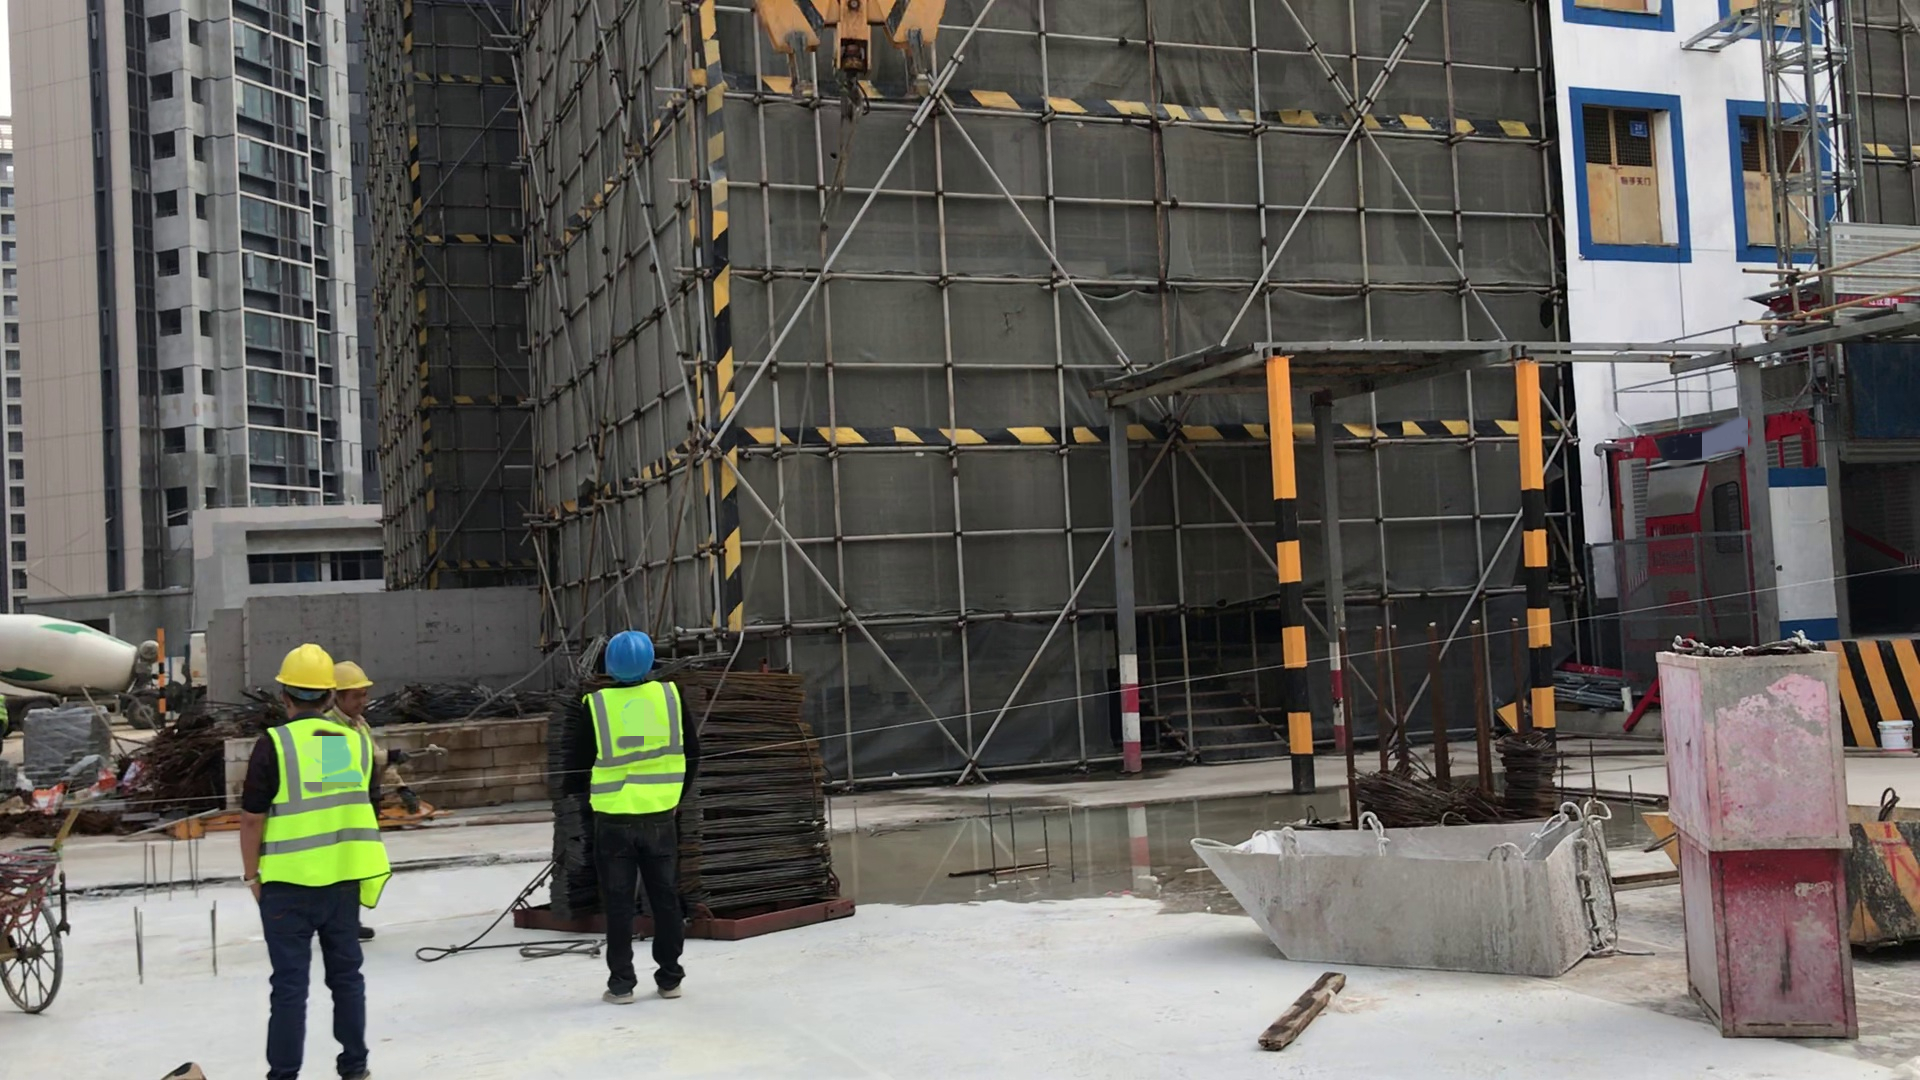helmet: (274, 646, 344, 693), (597, 628, 660, 680), (338, 654, 385, 694)
person: (552, 631, 714, 1024), (241, 650, 384, 1080), (330, 656, 423, 734)
vest: (255, 719, 388, 911), (571, 683, 693, 817)
